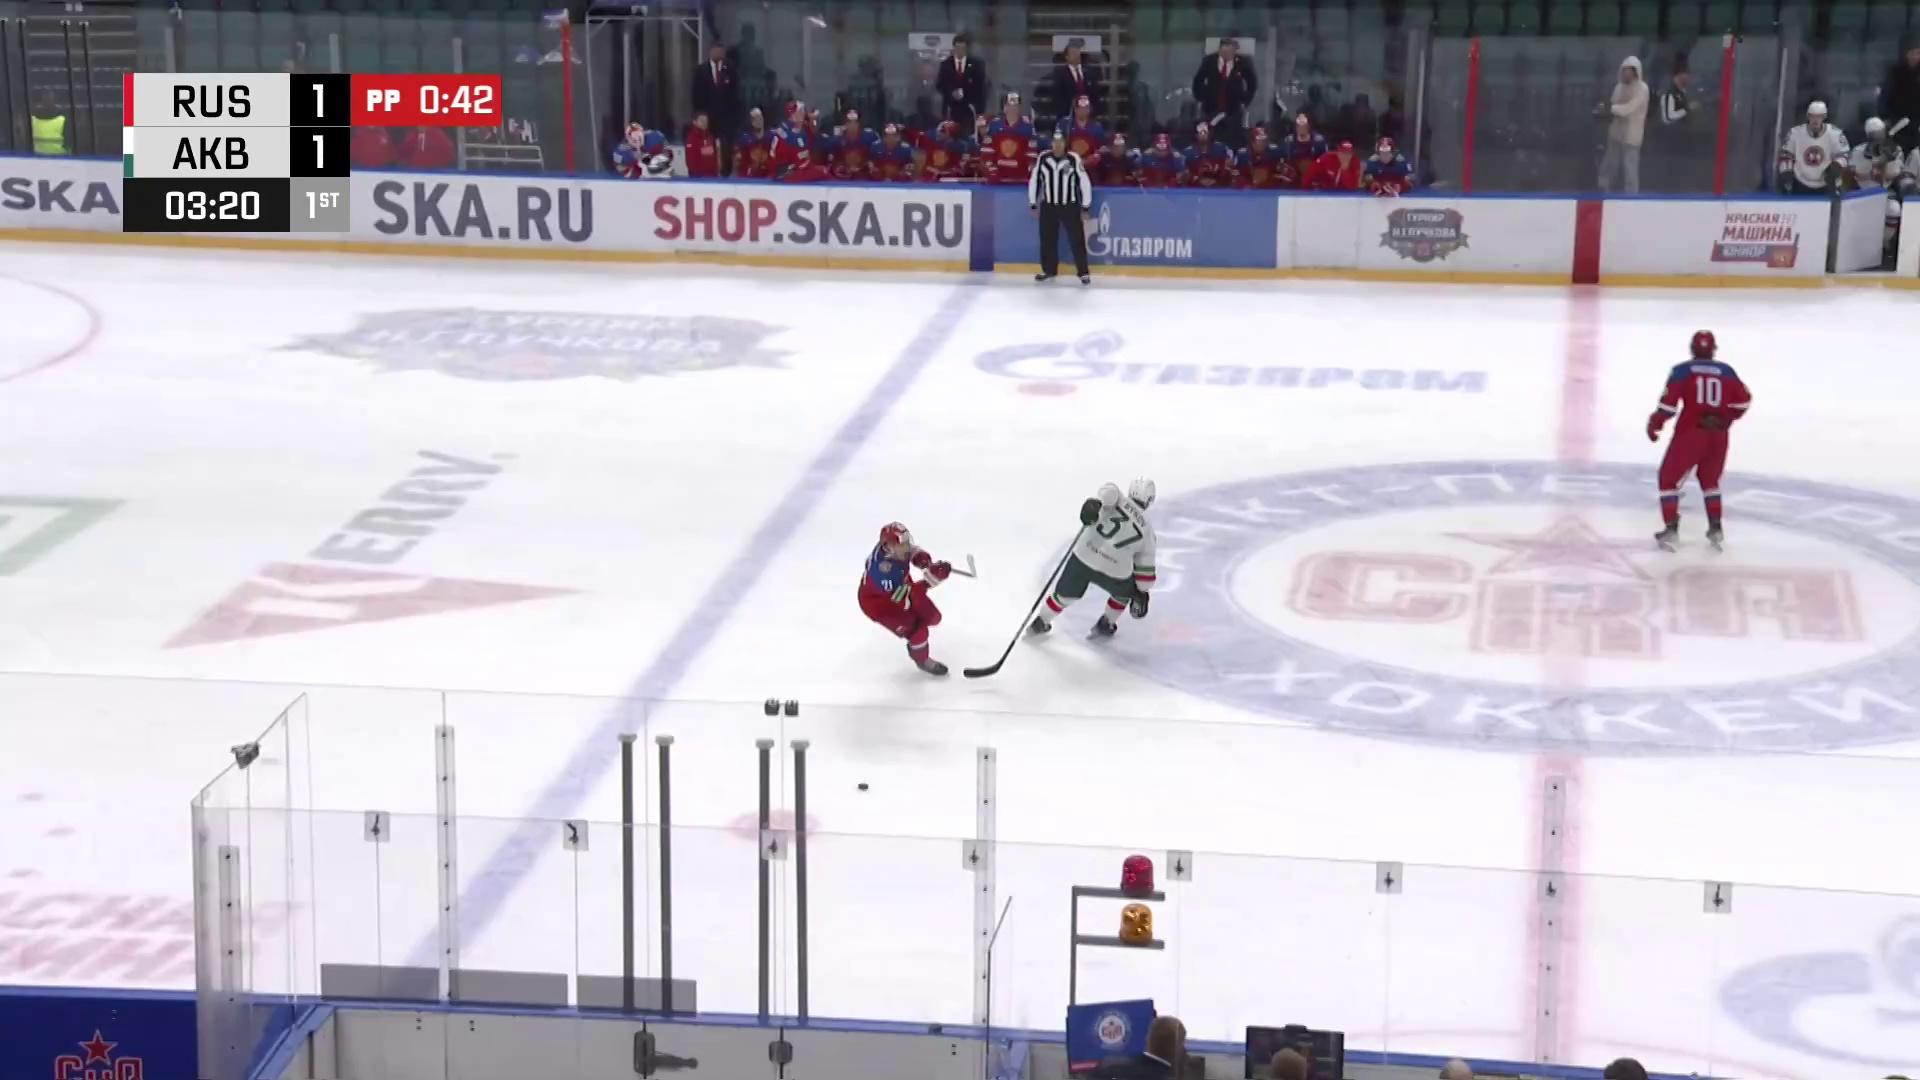ball: (857, 782, 870, 793)
